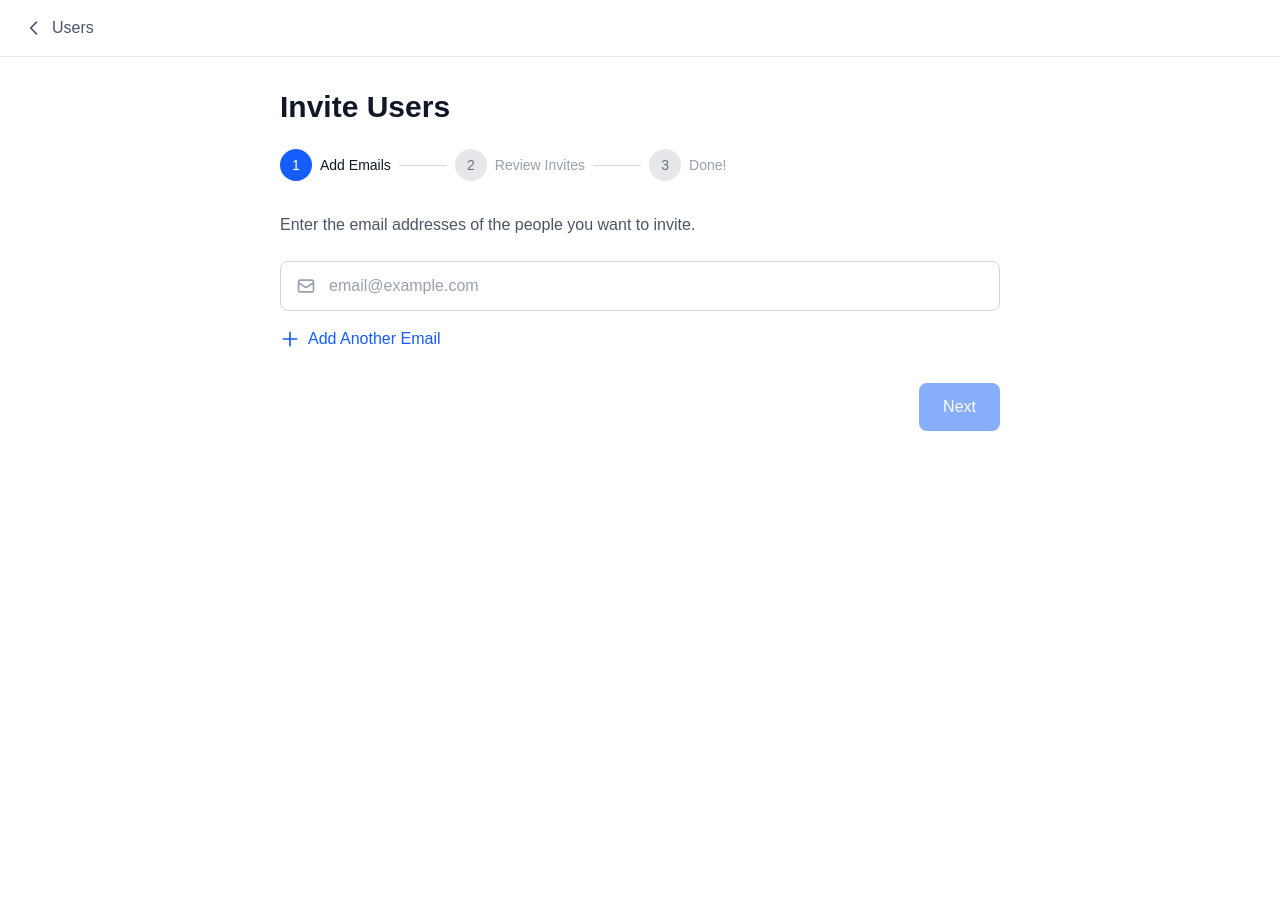
Test case: InviteUserModal › should add another email field when clicking Add Another Email
Expected: the number of fields with placeholder "email@example.com" is 1, x1=280 y1=261 x2=1000 y2=311
Click the button "Add Another Email": (360, 339) x1=280 y1=327 x2=440 y2=351
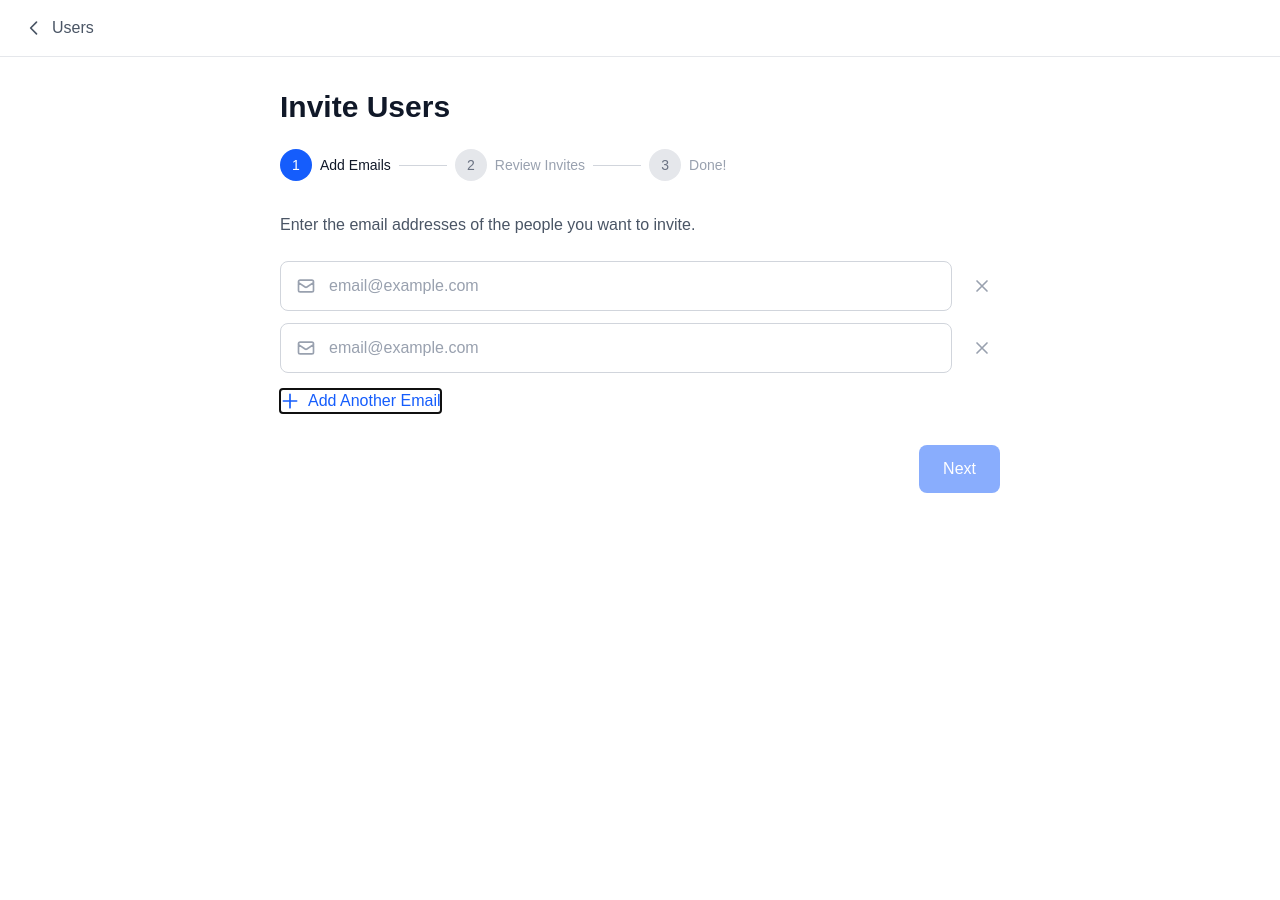
Now the number of fields with placeholder "email@example.com" is 2, box x1=280 y1=261 x2=952 y2=311; x1=280 y1=323 x2=952 y2=373
